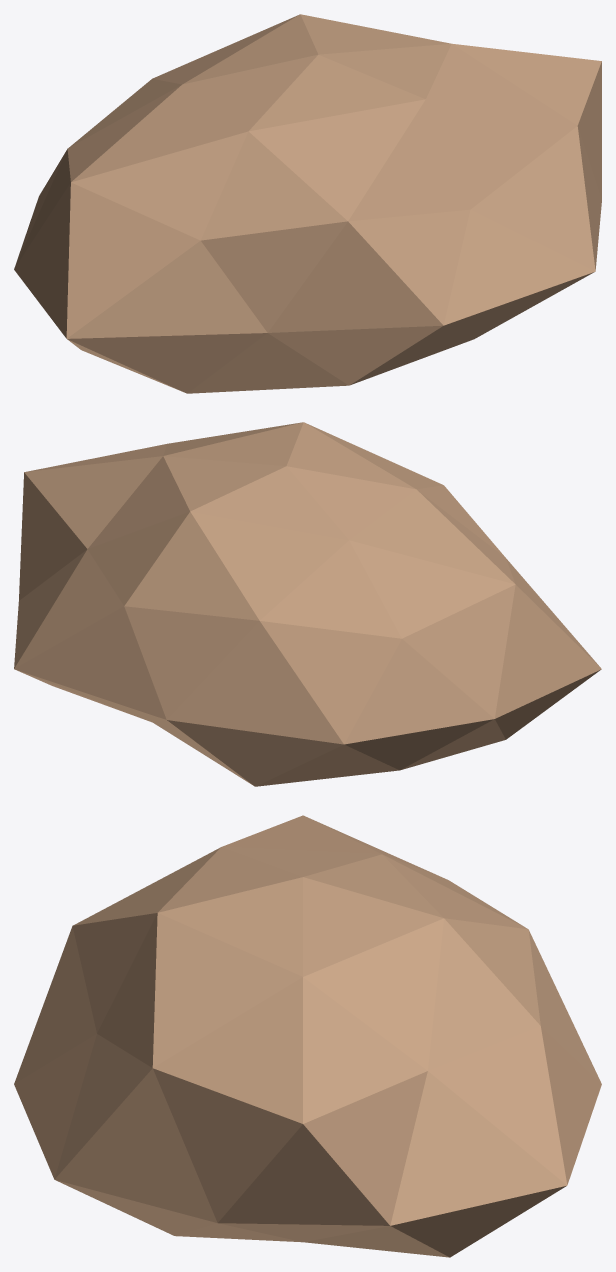
The model's file is rock_b.glb.
3 renders of one model, top to bottom at view 1: azimuth 30°, elevation 25°; view 2: azimuth 150°, elevation 25°; view 3: azimuth 270°, elevation 25°, orthographic. The views are drawn at different scales.
Visible parts, largest first — view 1: Rock; view 2: Rock; view 3: Rock.
Part boxes in pixels (box(x1,y1,x2,y2)): Rock: box(14, 14, 601, 393); Rock: box(14, 422, 601, 786); Rock: box(14, 815, 601, 1257).
Size of the model in its own units: 11.3 by 4.56 by 8.59.
